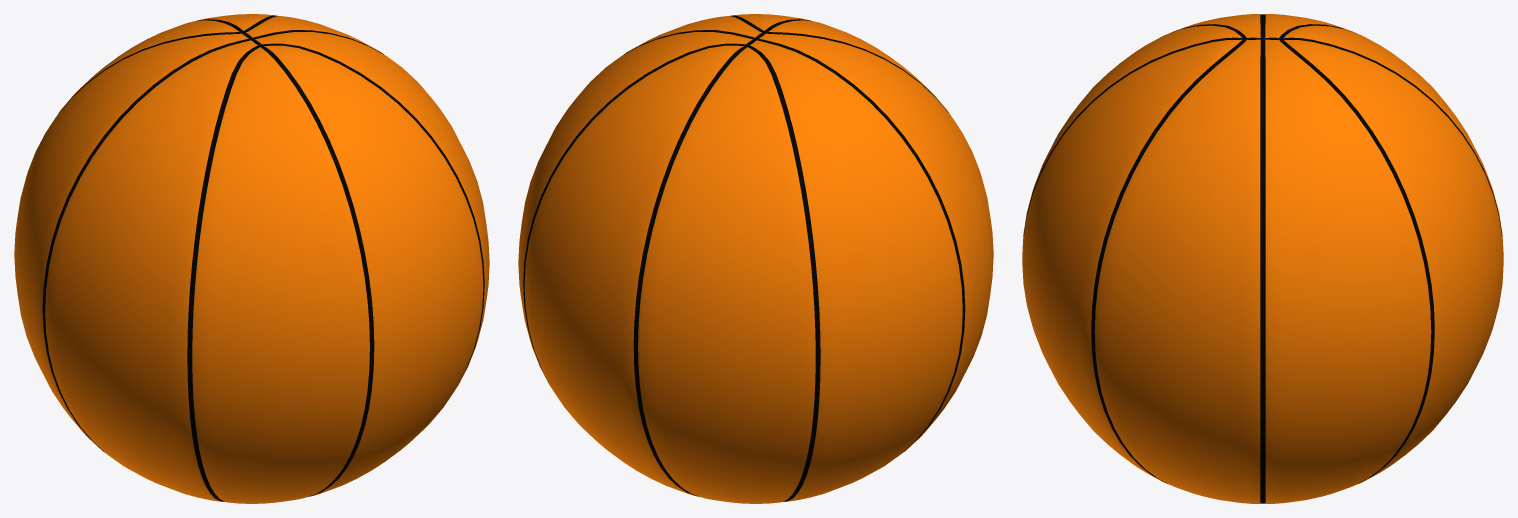
File: basketball.glb
3 renders of one model, left to right at view 1: azimuth 30°, elevation 25°; view 2: azimuth 150°, elevation 25°; view 3: azimuth 270°, elevation 25°, orthographic.
Visible parts, largest first — view 1: basketball; view 2: basketball; view 3: basketball.
Boxes of the visible parts, <box> form: basketball: <box>14,14,489,503</box>; basketball: <box>518,14,993,503</box>; basketball: <box>1022,14,1503,503</box>.
Bounding box in the file's own units: 1.95 × 1.97 × 1.95.
